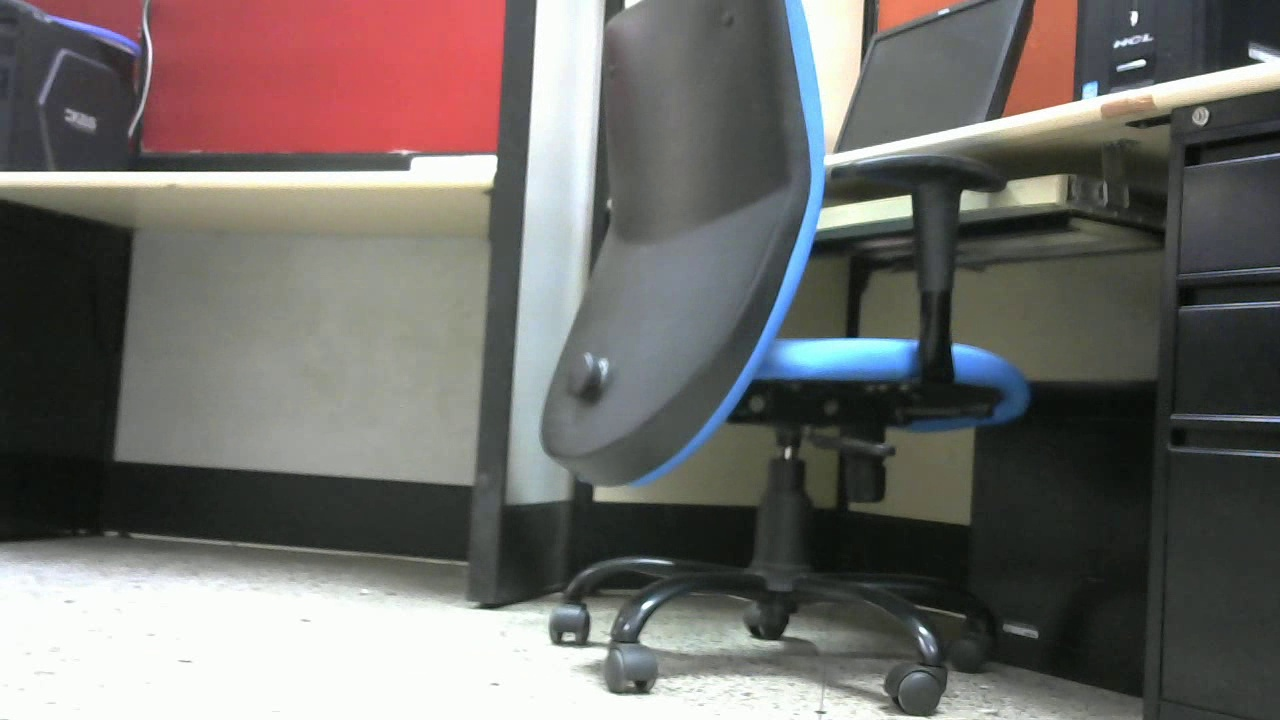chair: (541, 2, 1036, 714)
